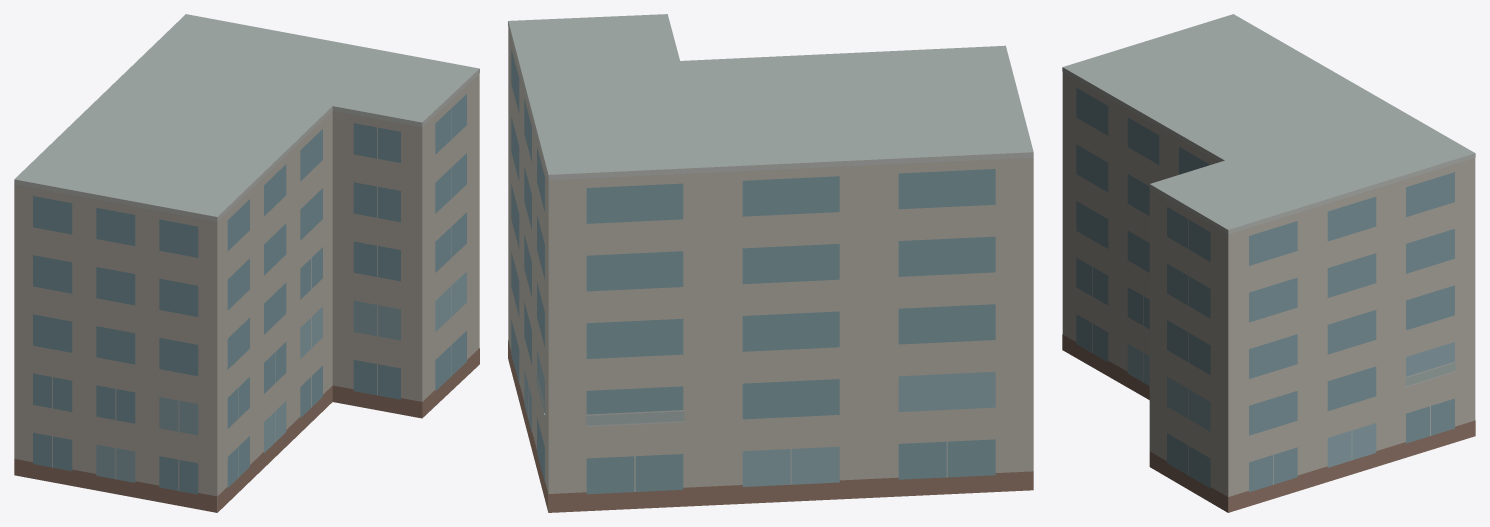
The model's file is survey-upis-32662345.glb.
The picture shows the model from 3 angles, left to right: view 1: azimuth 30°, elevation 25°; view 2: azimuth 150°, elevation 25°; view 3: azimuth 270°, elevation 25°; orthographic projection. The views are drawn at different scales.
Visible parts, largest first — view 1: survey-upis-32662345.tmp; view 2: survey-upis-32662345.tmp; view 3: survey-upis-32662345.tmp.
Boxes of the visible parts, bbox=[...] form: survey-upis-32662345.tmp: bbox=[14, 14, 479, 512]; survey-upis-32662345.tmp: bbox=[508, 14, 1033, 512]; survey-upis-32662345.tmp: bbox=[1062, 14, 1475, 512].
Bounding box in the file's own units: 24.97 × 15.25 × 20.18.
